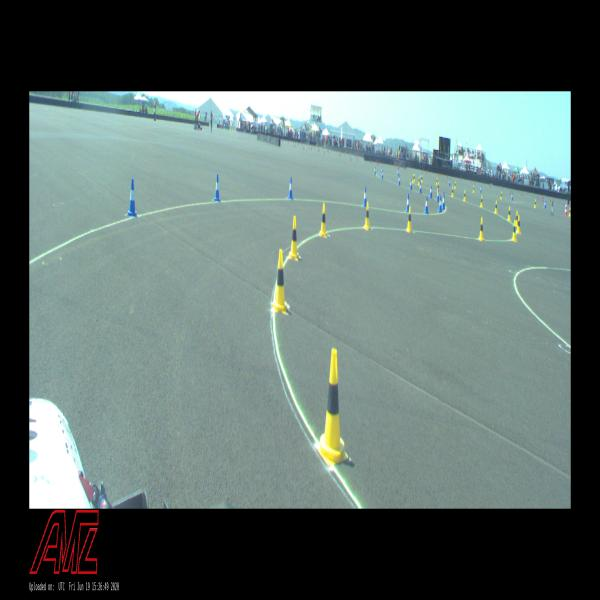blue_cone: (127, 179, 138, 217), (213, 174, 221, 202), (288, 178, 294, 199), (362, 186, 367, 206), (424, 196, 429, 214), (406, 194, 410, 212), (438, 196, 442, 212), (442, 193, 445, 209), (436, 189, 439, 202), (381, 170, 384, 179), (430, 185, 432, 198), (419, 182, 421, 193), (410, 178, 412, 189), (398, 176, 400, 186), (374, 166, 376, 175), (544, 200, 546, 209), (397, 168, 399, 176), (511, 193, 513, 200), (381, 167, 382, 174)
large_orange_cone: (564, 201, 568, 216)
yellow_cone: (317, 348, 348, 466), (273, 249, 288, 314), (288, 216, 299, 260), (319, 203, 327, 237), (363, 202, 370, 230), (406, 206, 412, 232), (478, 216, 484, 241), (511, 220, 517, 242), (516, 215, 521, 234), (515, 211, 518, 226), (508, 206, 511, 221), (494, 200, 497, 214), (480, 195, 483, 207), (463, 190, 466, 201), (451, 186, 454, 197), (437, 182, 439, 192), (418, 176, 420, 185), (412, 174, 414, 182), (534, 200, 536, 208), (568, 208, 570, 216), (500, 192, 502, 199)
